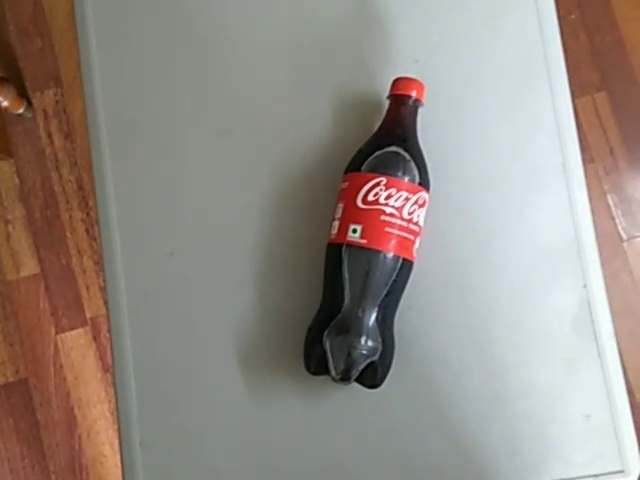Cocacola: (295, 66, 443, 389)
